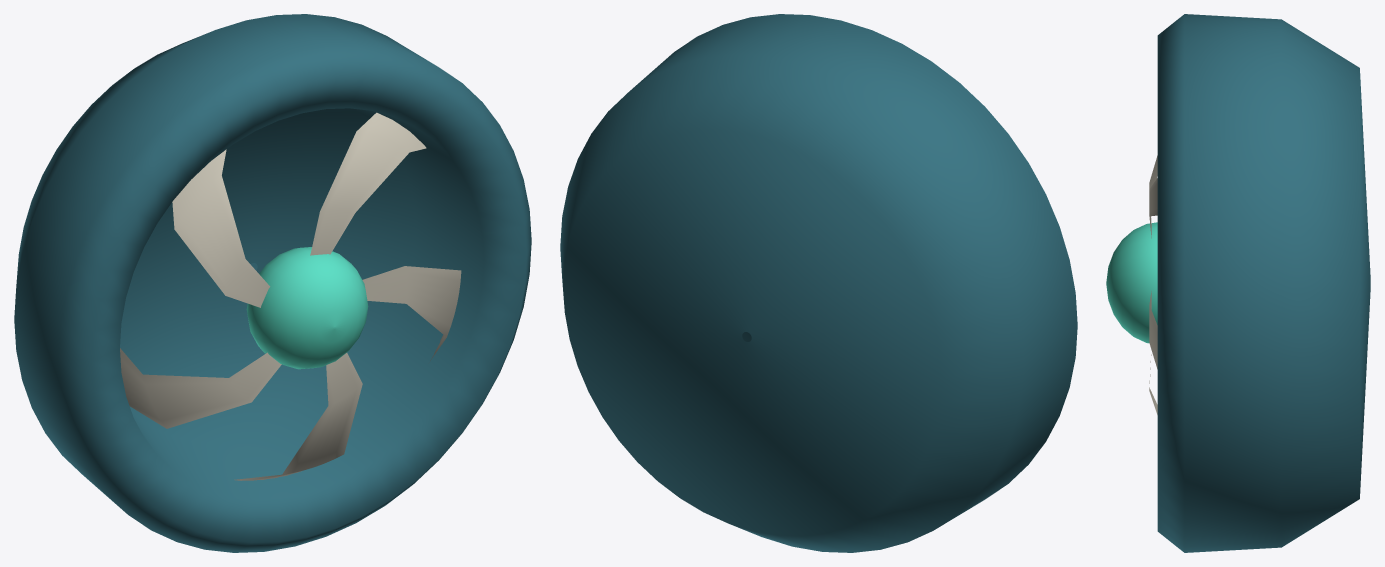
Rendered from boss_tide_turbine.glb.
3 views of the same model, side by side, from view 1: azimuth 30°, elevation 25°; view 2: azimuth 150°, elevation 25°; view 3: azimuth 270°, elevation 25° (orthographic).
Visible parts, largest first — view 1: boss_tide_turbine; view 2: boss_tide_turbine; view 3: boss_tide_turbine.
Part boxes in pixels (x1,y1,x2,y2): boss_tide_turbine: (14,14,531,552); boss_tide_turbine: (560,14,1077,552); boss_tide_turbine: (1106,14,1370,552).
Bounding box in the file's own units: 2 × 2 × 0.98.
